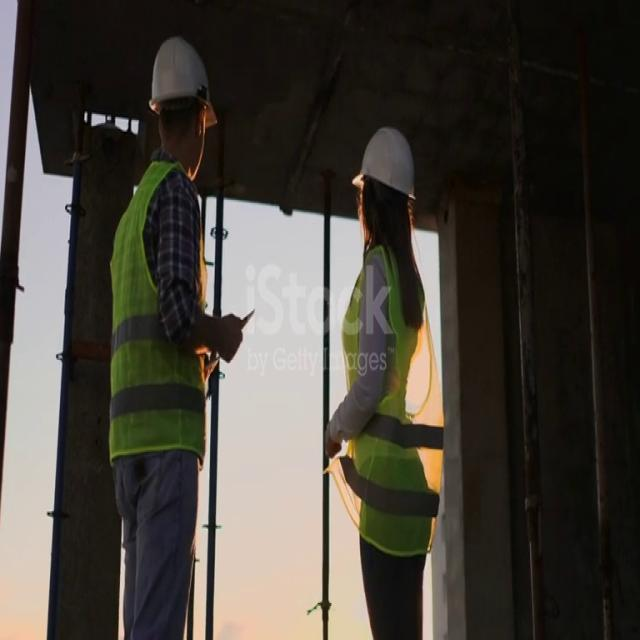capacete: (142, 31, 230, 129), (346, 115, 431, 210)
